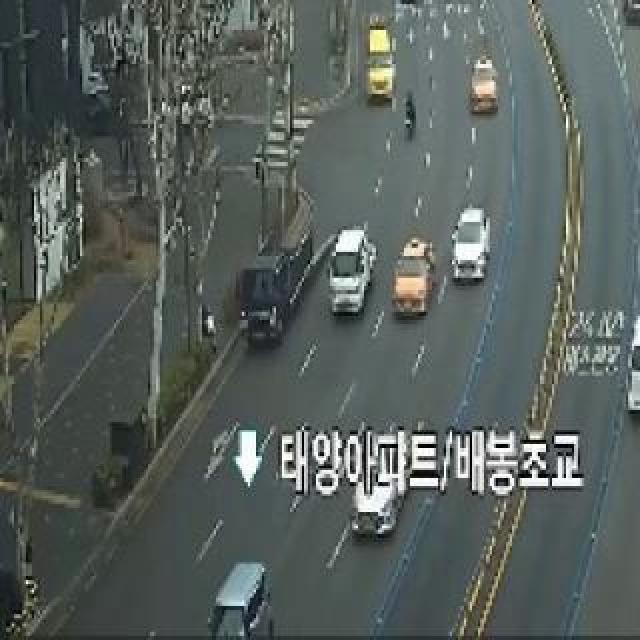motorbike: (397, 81, 431, 147)
truck: (243, 197, 331, 357), (320, 205, 380, 331)
